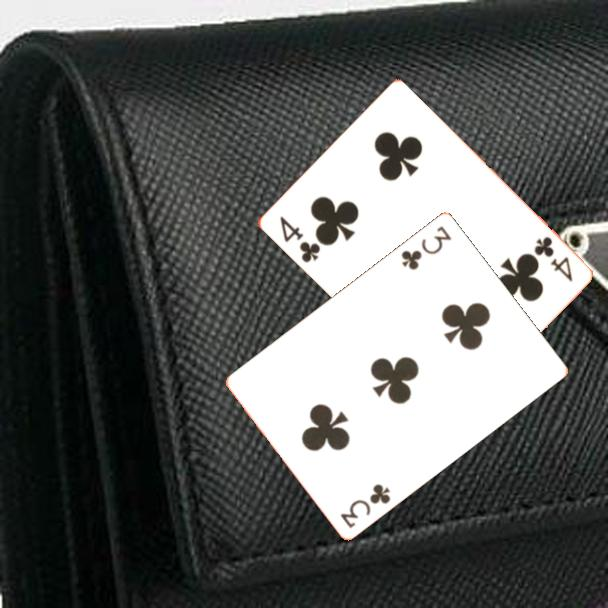c03: (397, 221, 455, 273), (336, 480, 394, 531)
c04: (276, 212, 323, 266), (530, 233, 575, 285)
